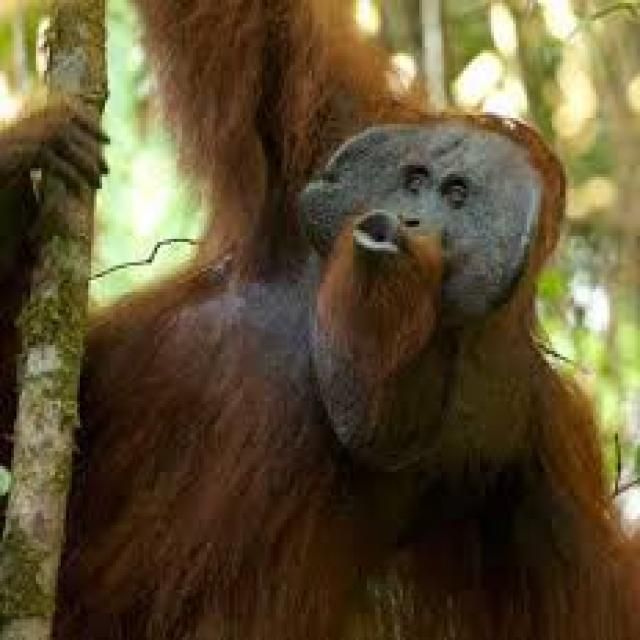Orangutan: (21, 17, 570, 640)
